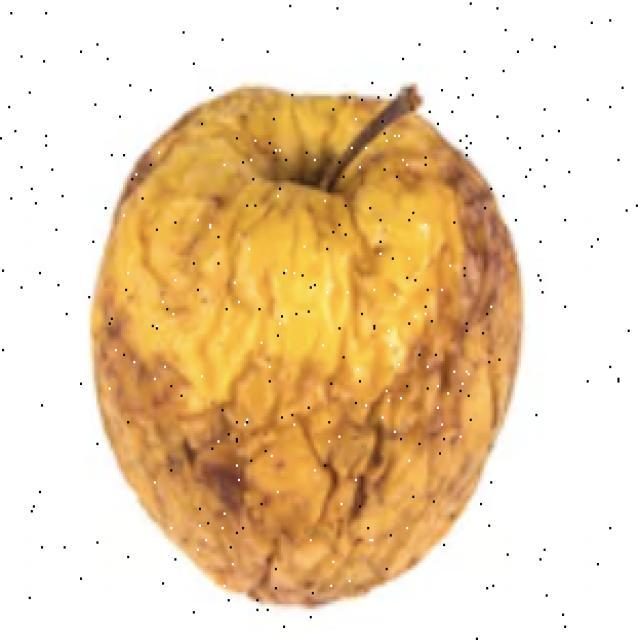Rotten: (87, 97, 510, 603)
